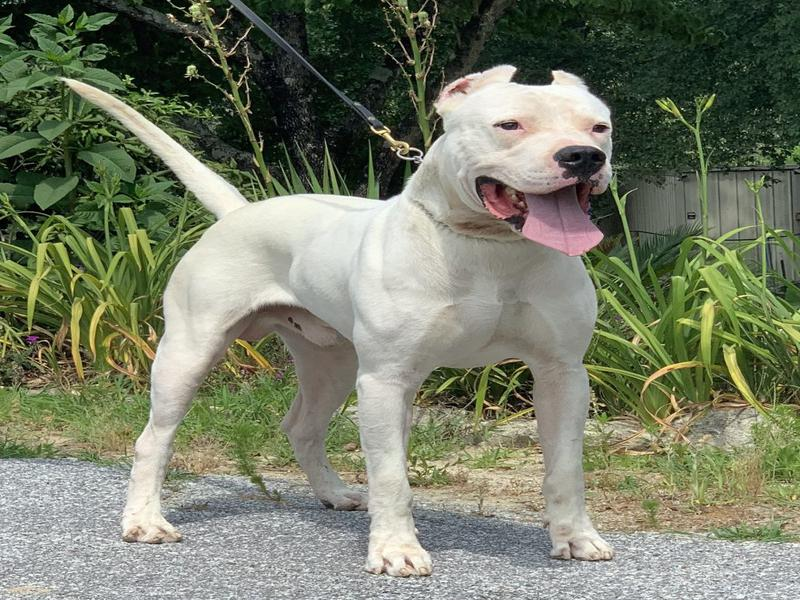dog_stand: (57, 57, 626, 583)
